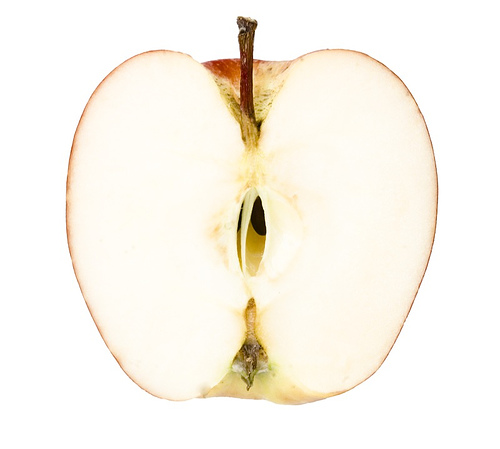apple: (61, 46, 438, 404)
